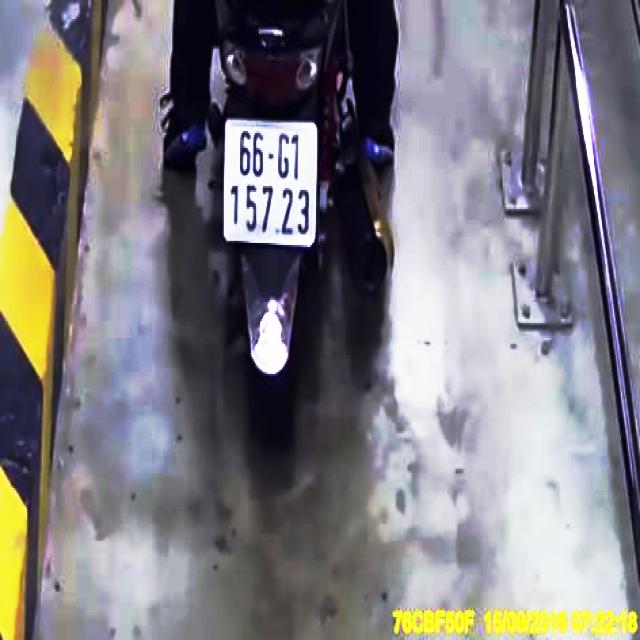license_plate: (226, 122, 319, 249)
